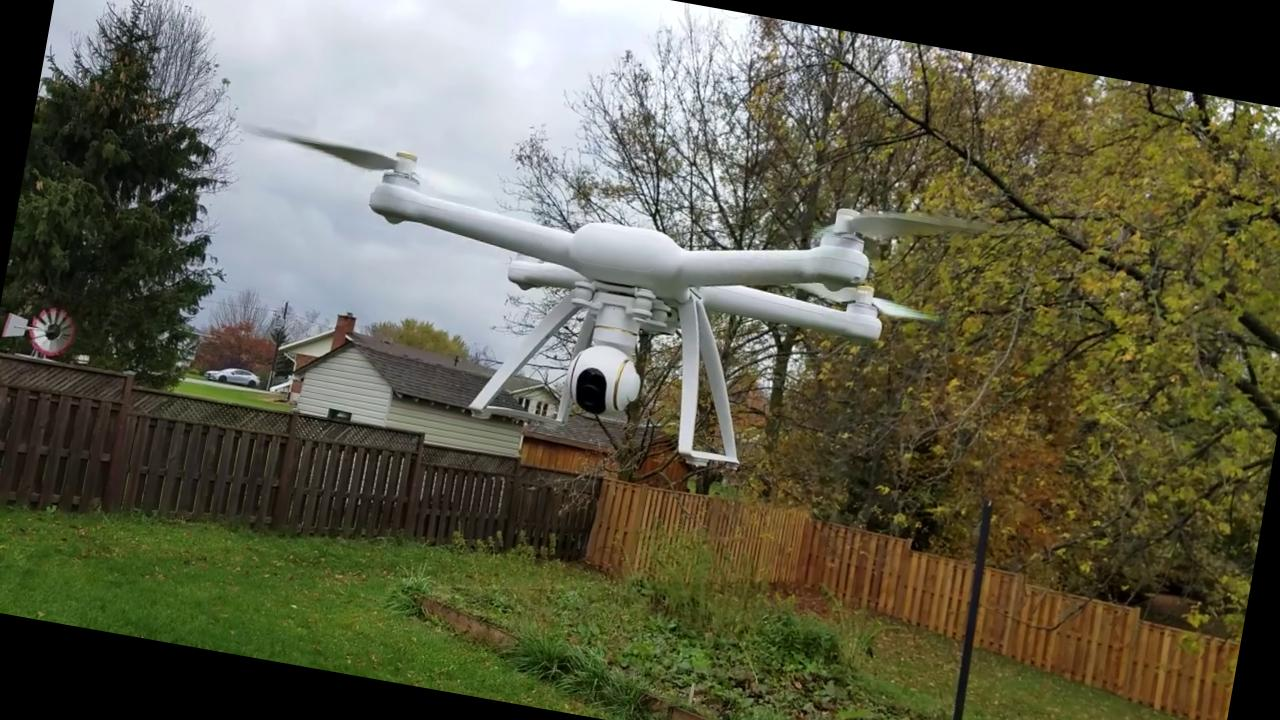drone: (245, 73, 988, 440)
